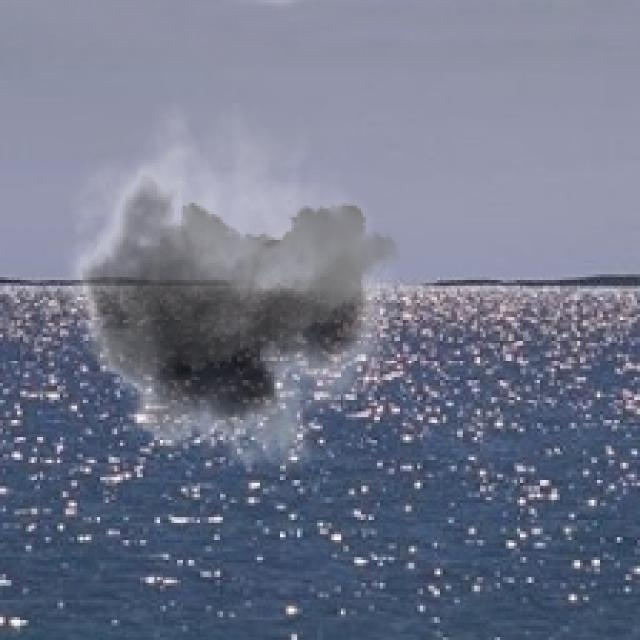smoke: (51, 100, 400, 489)
